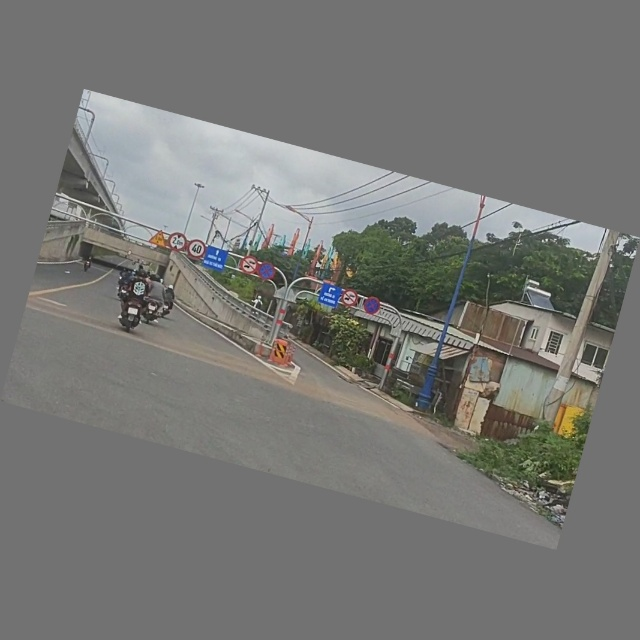P.107: (238, 254, 260, 276), (340, 289, 359, 310)
P.117*: (166, 231, 189, 255)
P.127*40: (185, 238, 208, 261)
P.130: (361, 295, 383, 318), (256, 261, 277, 283)
W.239b*: (147, 227, 170, 250)
